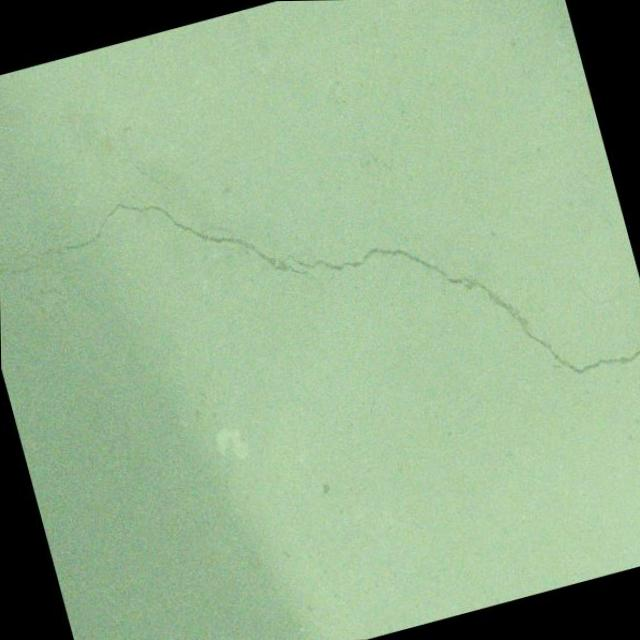crack: (0, 69, 640, 521), (0, 63, 187, 244), (0, 331, 33, 369)
